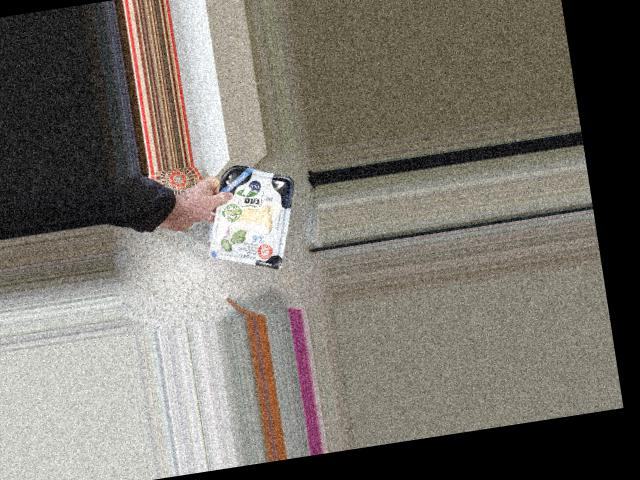cheese: (212, 168, 291, 264)
